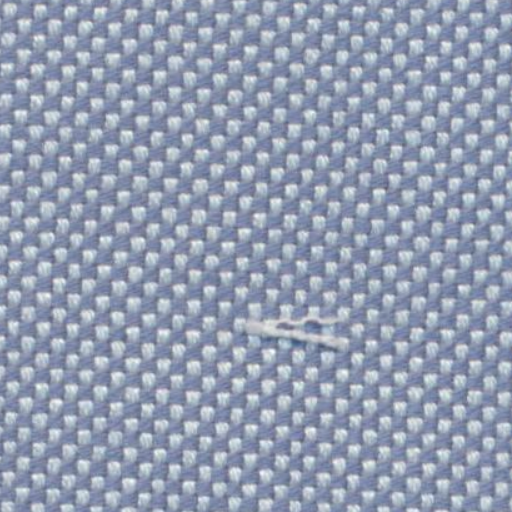DuanSha: (205, 299, 360, 360)
